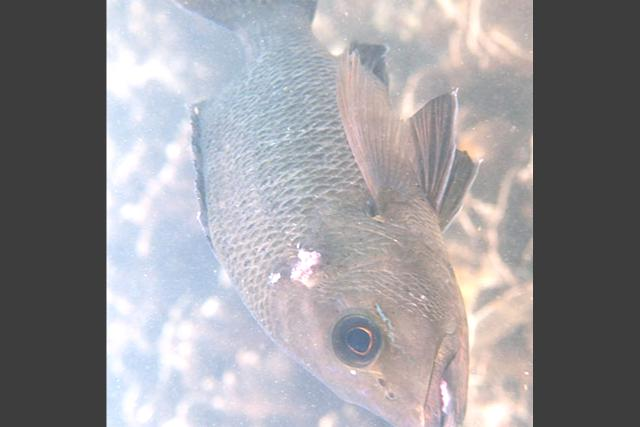Mulut: (383, 302, 501, 427)
Sirip Dada: (314, 36, 436, 223)
Sirip Ekor: (156, 0, 331, 49)
Sirip Perut: (405, 76, 502, 233)
Sirip Punggung: (174, 77, 252, 282)
